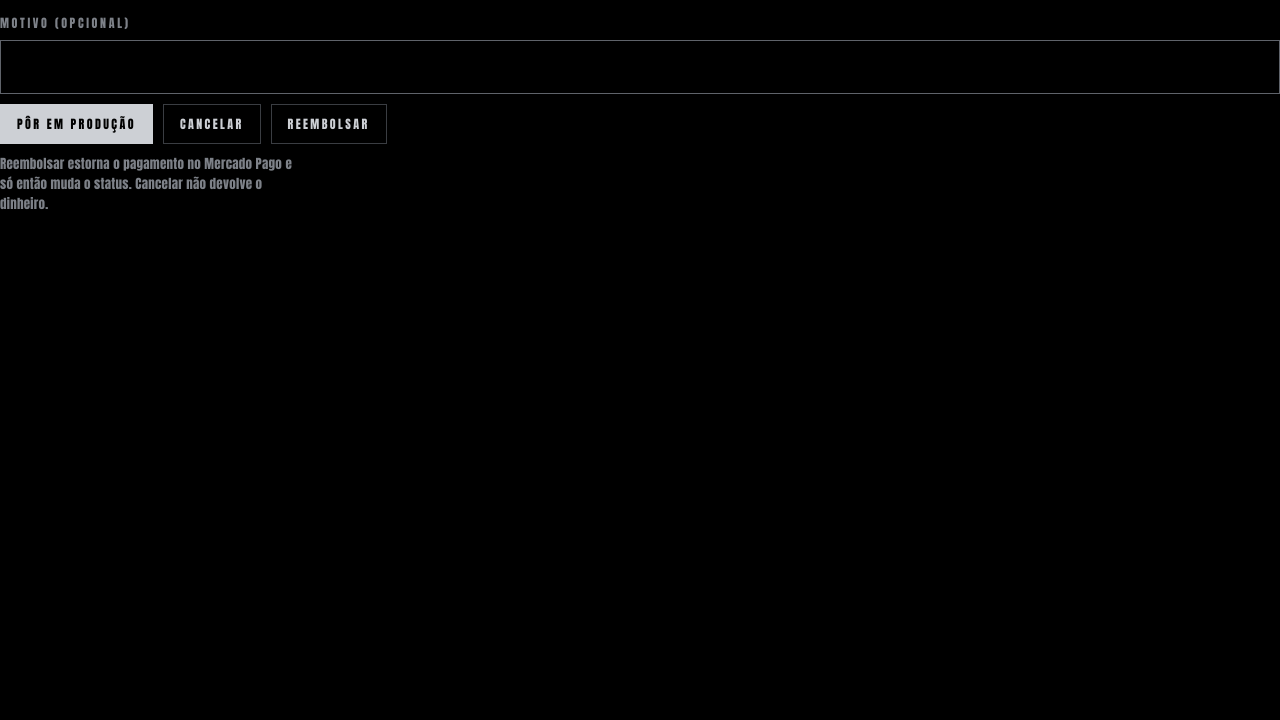
reautenticacao do reembolso (#351) › pede a senha e refaz a mesma mudanca, com o motivo digitado
The image size is (1280, 720).
Type "cliente desistiu" into the field labelled "Motivo (opcional)" at (640, 67), box top-left (0, 40), bottom-right (1279, 94)
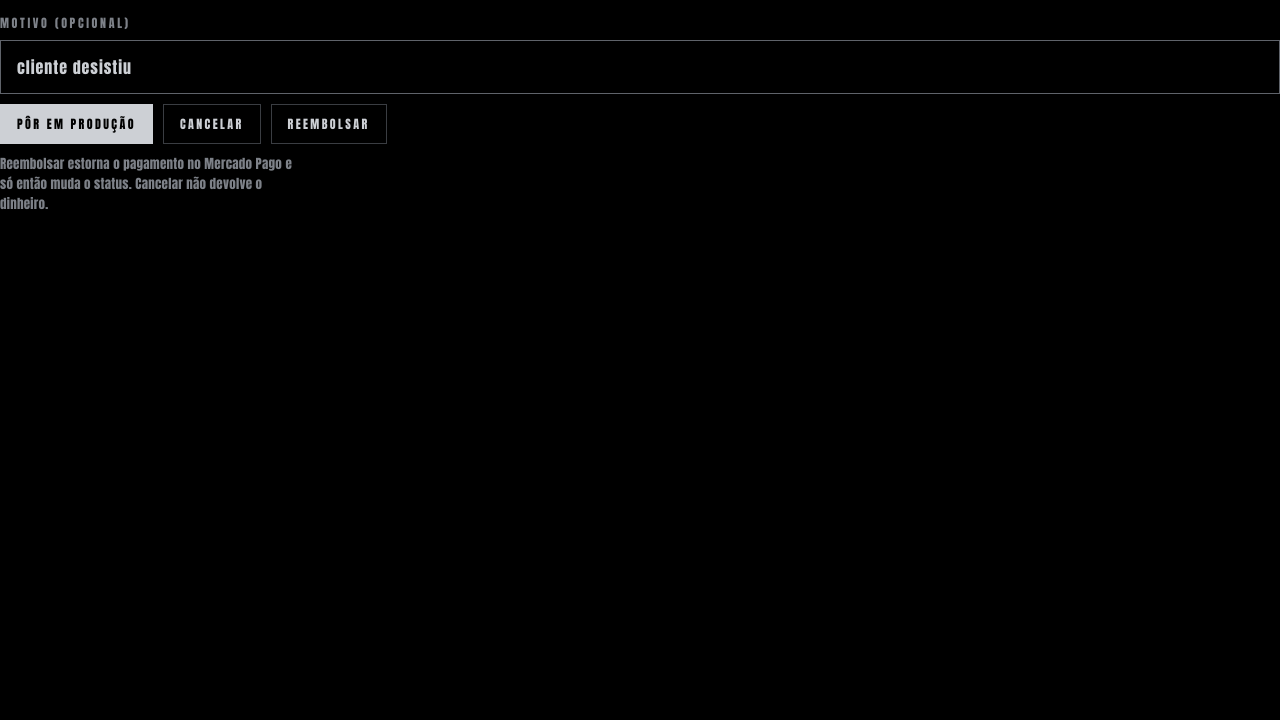
Click the button "Reembolsar" at (329, 124), box top-left (271, 104), bottom-right (387, 144)
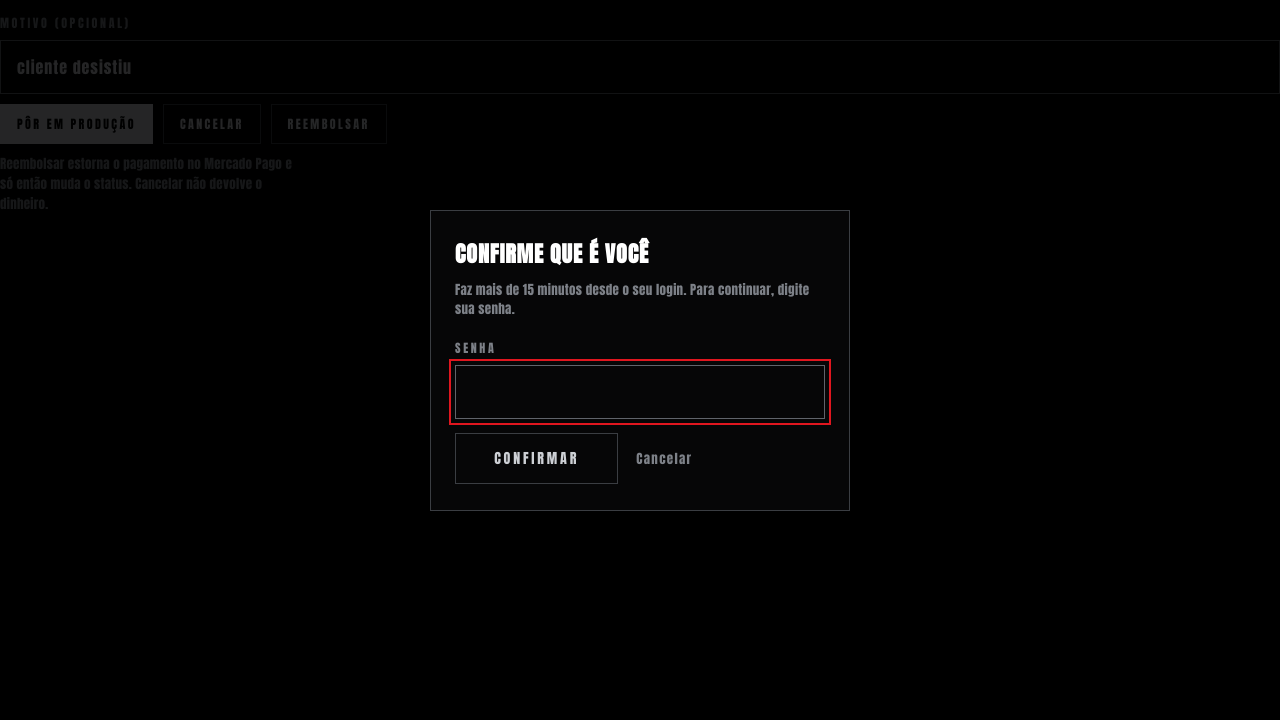
Now the dialog is shown
Type "senha-certa" into the password field labelled "Senha" at (640, 392), box top-left (455, 364), bottom-right (825, 418)
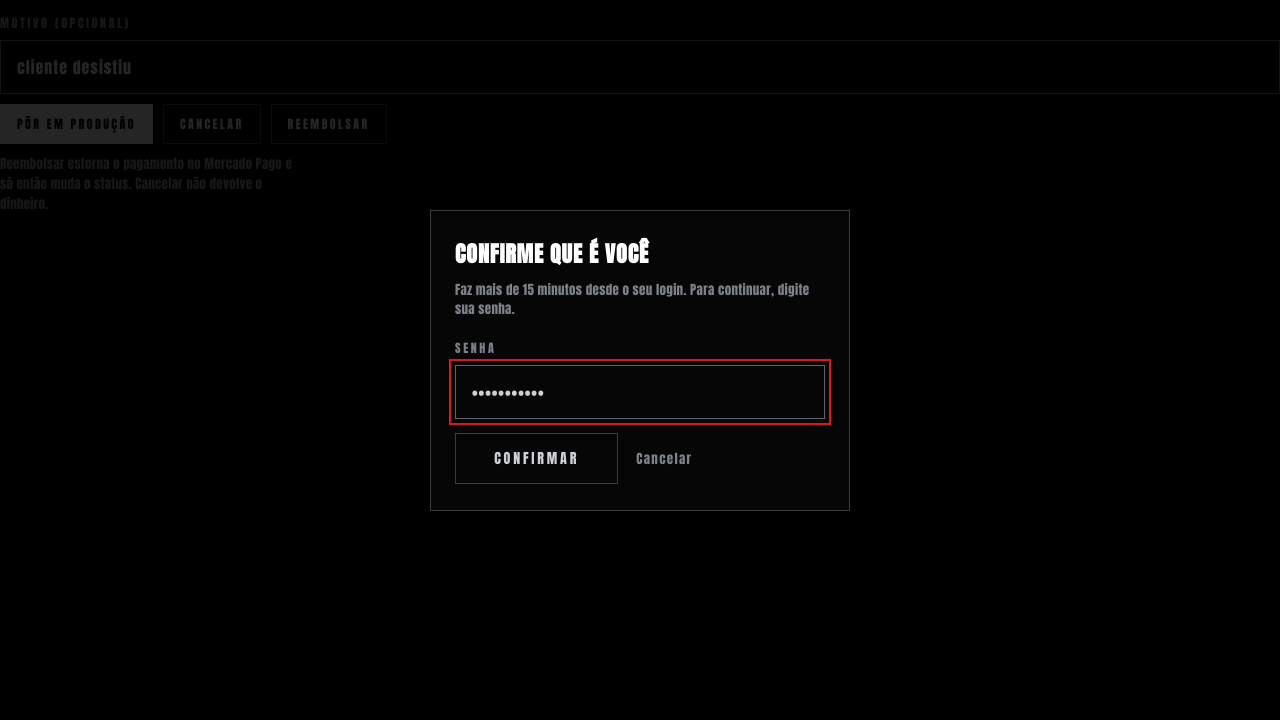
Submit the form labelled "Senha", box top-left (455, 338), bottom-right (825, 484)
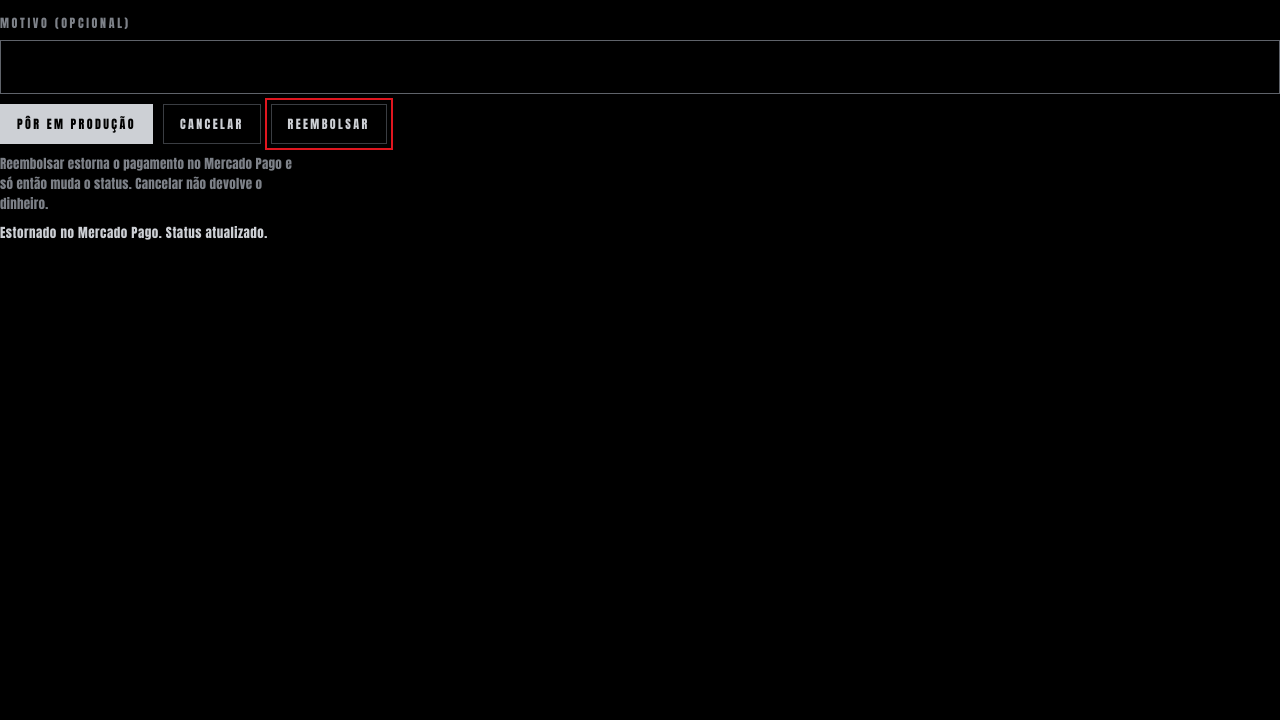
Now the text "Estornado no Mercado Pago. Status atualizado." is shown, box top-left (0, 223), bottom-right (268, 242)
